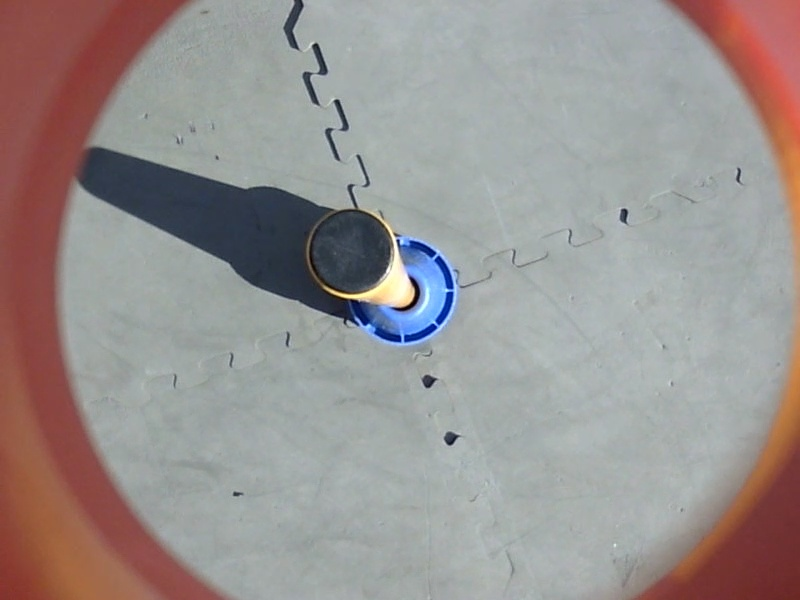tip: (301, 205, 403, 302)
